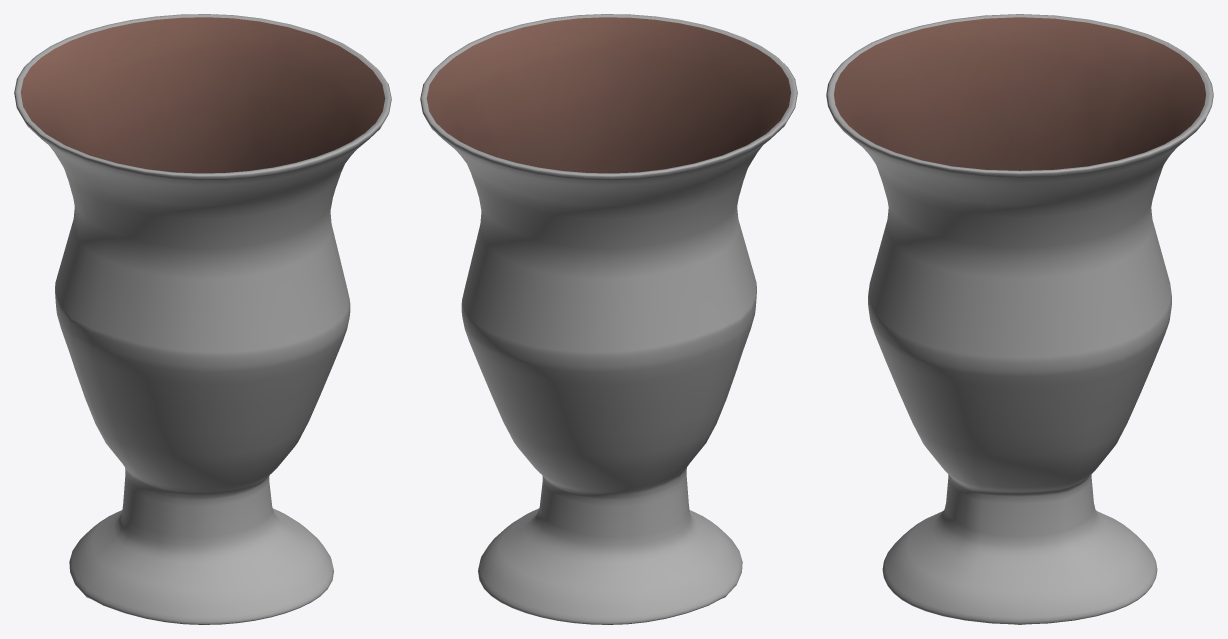
The model's file is Jar_musuem8_Smooth.fbx.
3 views of the same model, side by side, from view 1: azimuth 30°, elevation 25°; view 2: azimuth 150°, elevation 25°; view 3: azimuth 270°, elevation 25° (orthographic).
Parts seen in each view (by area): view 1: nurbsToPoly5, nurbsToPoly4; view 2: nurbsToPoly5, nurbsToPoly4; view 3: nurbsToPoly5, nurbsToPoly4.
Boxes of the visible parts, x1,y1,x2,y2 form: nurbsToPoly5: [14, 14, 391, 624]; nurbsToPoly4: [20, 17, 385, 598]; nurbsToPoly5: [420, 14, 797, 624]; nurbsToPoly4: [426, 17, 791, 598]; nurbsToPoly5: [826, 14, 1213, 624]; nurbsToPoly4: [834, 17, 1205, 624].
Size of the model in its own units: 4.12 by 5.76 by 4.23.
